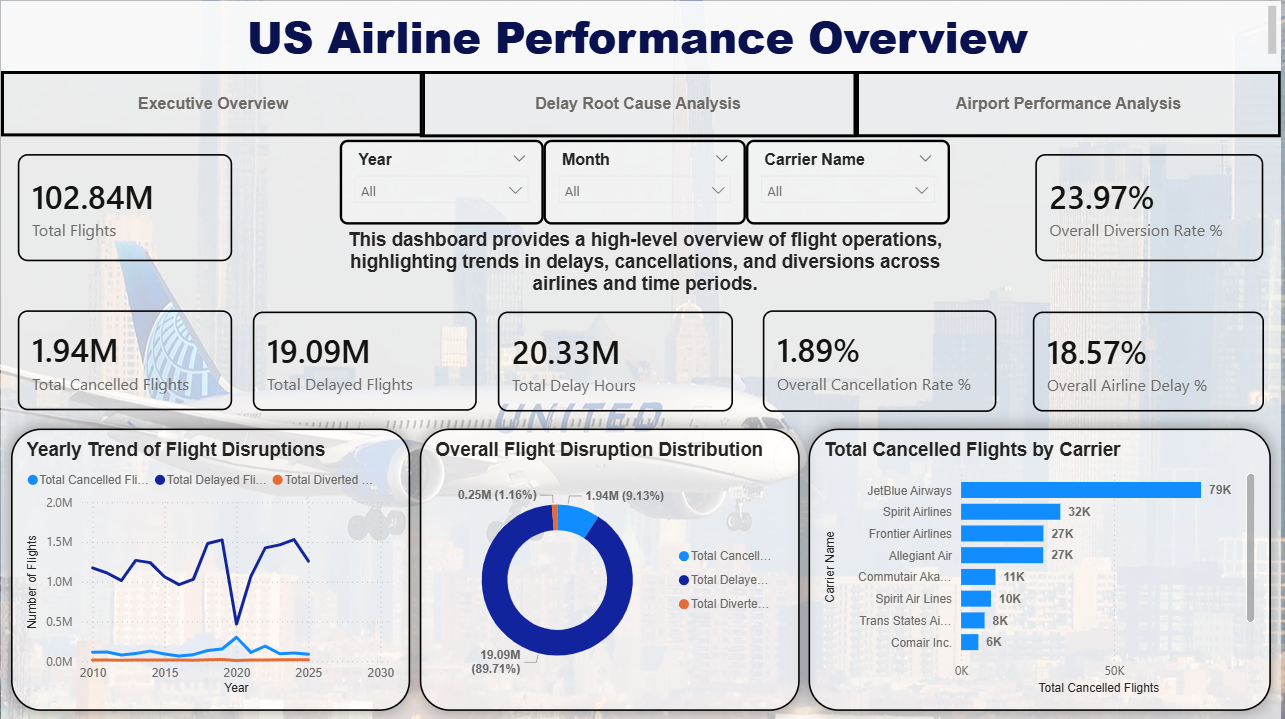

Layout of this report page (visuals, bound fields, positions):
{"tool":"powerbi","page":{"name":"US Airline Performance Overview","canvas":[1280,720],"ordinal":0},"visuals":[{"type":"textbox","box":[0,0,1280,71.2],"z":0},{"type":"cardVisual","fields":{"Data":["vw_Airline_Performance.Total Flights"]},"box":[0,136.3,248.5,141.2],"z":1000},{"type":"cardVisual","fields":{"Data":["vw_Airline_Performance.Delay %"]},"box":[1015,293.5,265.4,134.5],"z":2000},{"type":"cardVisual","fields":{"Data":["vw_Airline_Performance.Overall Cancellation Rate %"]},"box":[745.6,292,267.8,135.1],"z":3000},{"type":"cardVisual","fields":{"Data":["vw_Airline_Performance.Delayed Flights"]},"box":[235.3,294.4,258.2,133.9],"z":4000},{"type":"slicer","fields":{"Values":["vw_Airline_Performance.year"]},"box":[339,138.7,203.9,84.5],"z":5000},{"type":"slicer","fields":{"Values":["vw_Airline_Performance.month"]},"box":[542.9,138.7,202.7,84.5],"z":6000},{"type":"actionButton","box":[0,70.5,424.4,65.4],"z":7000},{"type":"actionButton","box":[418.6,70,436.7,66.4],"z":8000},{"type":"actionButton","box":[855,70,425,66.2],"z":9000},{"type":"clusteredBarChart","title":"Total Cancelled Flights by Carrier","fields":{"Category":["vw_Airline_Performance.carrier_name"],"Y":["vw_Airline_Performance.Total Cancelled Flights"]},"box":[807.1,427.1,462.1,282.3],"z":10000},{"type":"cardVisual","fields":{"Data":["vw_Airline_Performance.Total Delay Minutes"]},"box":[480.6,293.5,269,134.5],"z":11000},{"type":"cardVisual","fields":{"Data":["vw_Airline_Performance.Diversion Rate %"]},"box":[1017.4,135.7,262.9,141.8],"z":12000},{"type":"cardVisual","fields":{"Data":["vw_Airline_Performance.Total Cancelled Flights"]},"box":[0,292.9,248.2,134.1],"z":13000},{"type":"lineChart","title":"Yearly Trend of Flight Disruptions","fields":{"Category":["DateTable.Year"],"Y":["vw_Airline_Performance.Total Cancelled Flights","vw_Airline_Performance.Delayed Flights","vw_Airline_Performance.Total Diverted Flights"]},"box":[9.7,427.1,399.3,282.3],"z":14000},{"type":"donutChart","title":"Overall Flight Disruption Distribution","fields":{"Y":["vw_Airline_Performance.Total Cancelled Flights","vw_Airline_Performance.Total Delayed Flights","vw_Airline_Performance.Total Diverted Flights"]},"box":[418.6,427.1,380,282.3],"z":15000},{"type":"slicer","fields":{"Values":["vw_Airline_Performance.carrier_name"]},"box":[745.6,138.7,203.9,84.5],"z":16000},{"type":"textbox","box":[324.5,223.2,638.2,82],"z":17000}]}

Visuals, with their boxes in screenshot pixels (x1, y1, x2, y2), scaled from the page's 1280x720 canvas onto the 1285x719 screenshot:
textbox: region(0, 0, 1284, 71)
cardVisual - vw_Airline_Performance.Total Flights: region(0, 136, 249, 277)
cardVisual - vw_Airline_Performance.Delay %: region(1019, 293, 1284, 427)
cardVisual - vw_Airline_Performance.Overall Cancellation Rate %: region(749, 292, 1017, 427)
cardVisual - vw_Airline_Performance.Delayed Flights: region(236, 294, 495, 428)
slicer - vw_Airline_Performance.year: region(340, 139, 545, 223)
slicer - vw_Airline_Performance.month: region(545, 139, 749, 223)
actionButton: region(0, 70, 426, 136)
actionButton: region(420, 70, 859, 136)
actionButton: region(858, 70, 1284, 136)
"Total Cancelled Flights by Carrier" clusteredBarChart: region(810, 427, 1274, 708)
cardVisual - vw_Airline_Performance.Total Delay Minutes: region(482, 293, 753, 427)
cardVisual - vw_Airline_Performance.Diversion Rate %: region(1021, 136, 1284, 277)
cardVisual - vw_Airline_Performance.Total Cancelled Flights: region(0, 292, 249, 426)
"Yearly Trend of Flight Disruptions" lineChart: region(10, 427, 411, 708)
"Overall Flight Disruption Distribution" donutChart: region(420, 427, 802, 708)
slicer - vw_Airline_Performance.carrier_name: region(749, 139, 953, 223)
textbox: region(326, 223, 966, 305)
